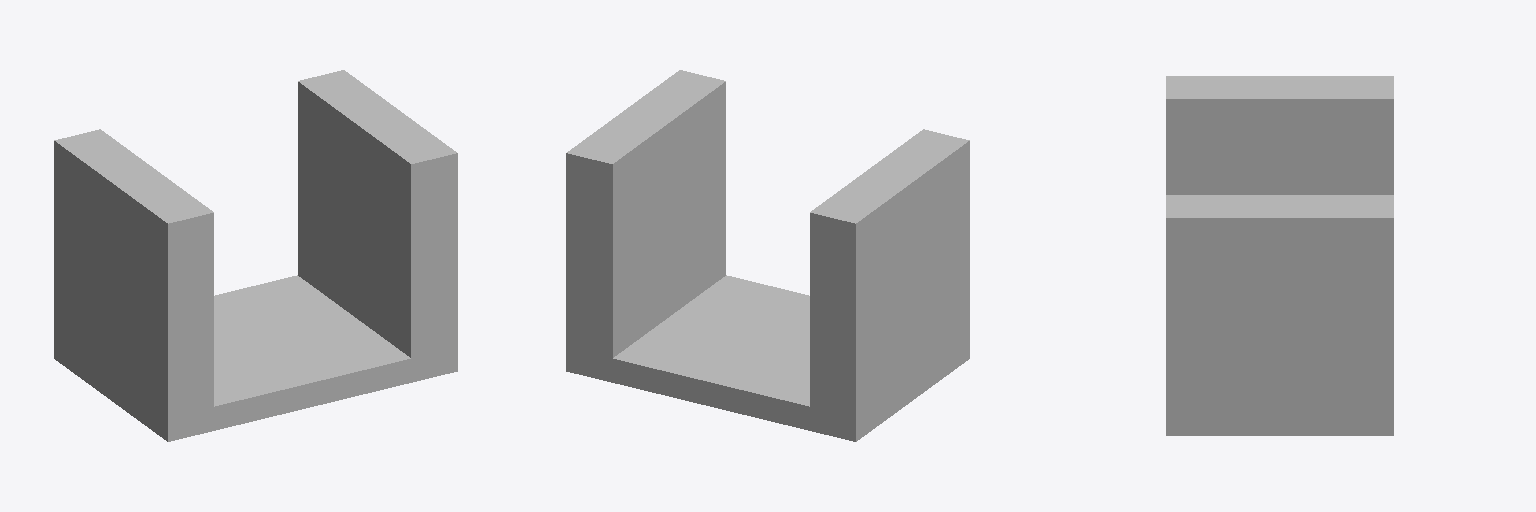
File: sewer_U.obj
3 renders of one model, left to right at view 1: azimuth 30°, elevation 25°; view 2: azimuth 150°, elevation 25°; view 3: azimuth 270°, elevation 25°, orthographic.
Visible parts, largest first — view 1: pCube18; view 2: pCube18; view 3: pCube18.
Part boxes in pixels (left/top/right/bottom): pCube18: left=54, top=70, right=457, bottom=441; pCube18: left=566, top=70, right=969, bottom=441; pCube18: left=1166, top=76, right=1393, bottom=435.
Bounding box in the file's own units: 12.5 × 9 × 8.5.